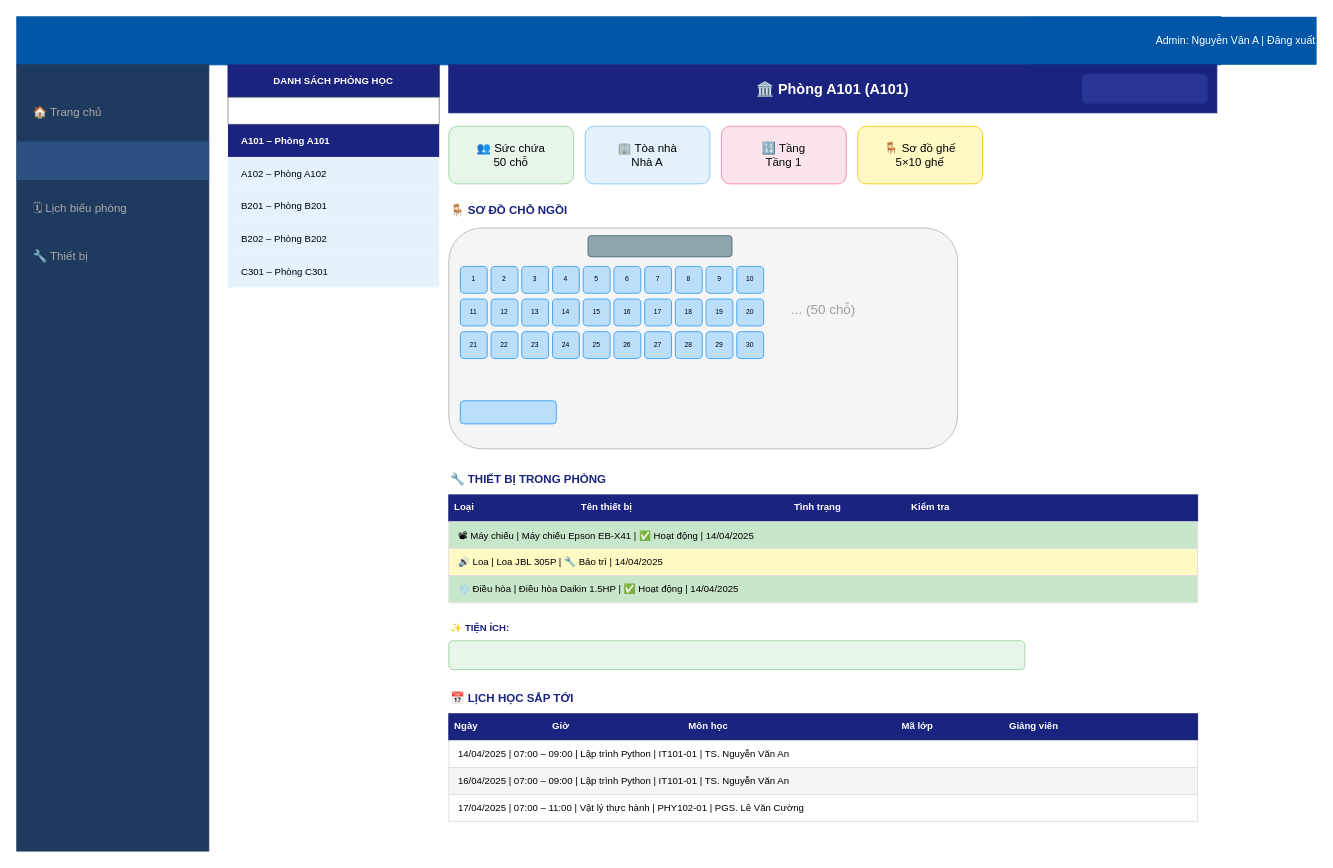
Image size: 1333x868. Some labels were removed from this diagram. Each missing label, with the box of its shape:
BÀN GIẢNG VIÊN: (587, 235, 732, 257)
HỆ THỐNG QUẢN LÝ ĐẶT PHÒNG HỌC: (16, 16, 1221, 65)
Máy chiếu, Điều hòa, Bảng trắng, Loa: (448, 640, 1025, 670)
Phòng học lý thuyết: (1081, 73, 1207, 103)
🏫 Chi tiết phòng học: (16, 141, 208, 180)
🔍 Tìm phòng...: (227, 96, 439, 124)
🔵 Ghế trống: (459, 400, 556, 424)
